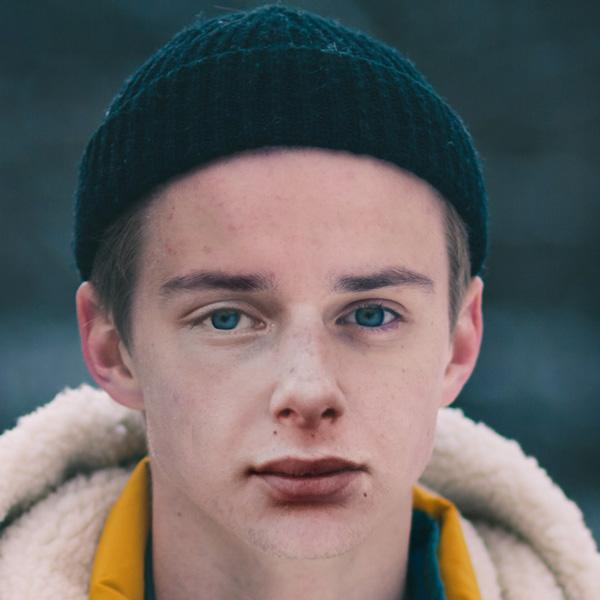Eyes: (178, 294, 275, 346), (326, 289, 414, 341)
